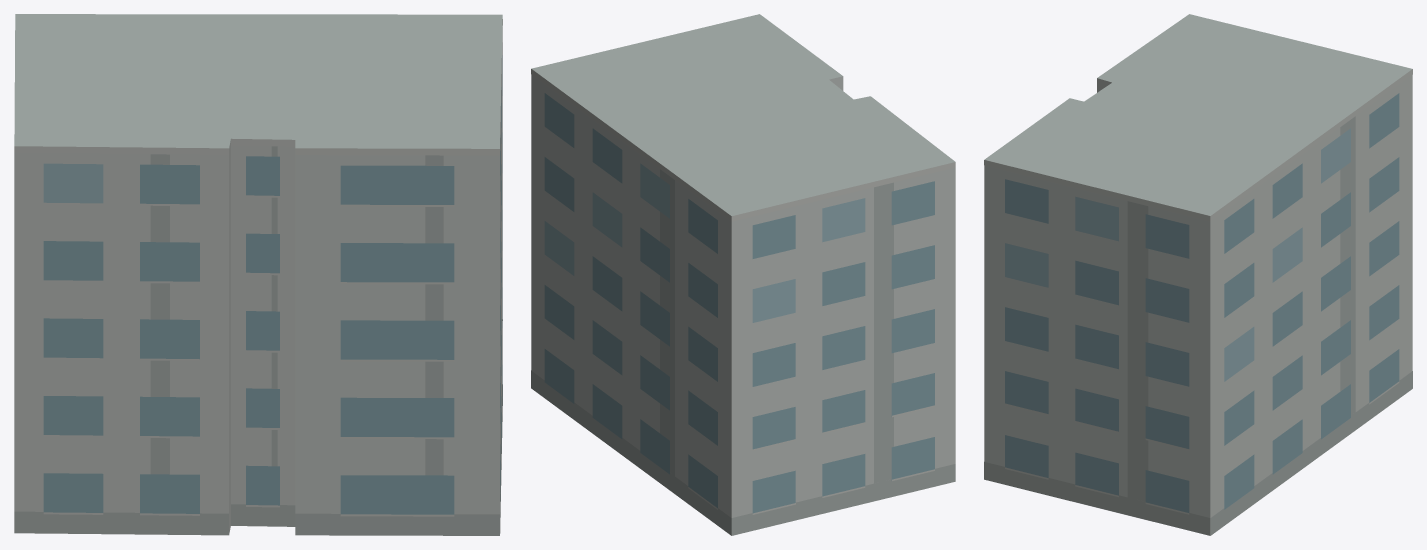
File: survey-upis-32729336.glb
The picture shows the model from 3 angles, left to right: view 1: azimuth 30°, elevation 25°; view 2: azimuth 150°, elevation 25°; view 3: azimuth 270°, elevation 25°; orthographic projection. The views are drawn at different scales.
Visible parts, largest first — view 1: survey-upis-32729336.tmp; view 2: survey-upis-32729336.tmp; view 3: survey-upis-32729336.tmp.
Boxes of the visible parts, x1=… form: survey-upis-32729336.tmp: x1=14, y1=14, x2=502, y2=535; survey-upis-32729336.tmp: x1=531, y1=14, x2=955, y2=535; survey-upis-32729336.tmp: x1=984, y1=14, x2=1412, y2=535.
Size of the model in its own units: 18.84 by 13.9 by 16.89.
